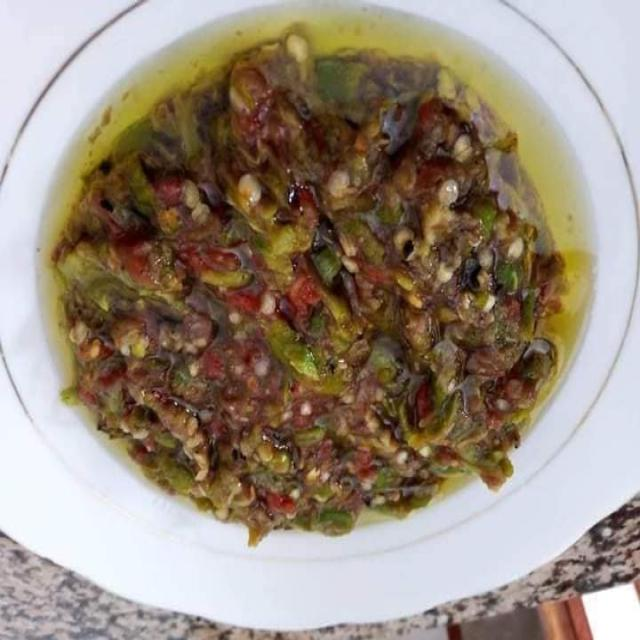Salade mechweya: (11, 2, 640, 613)
